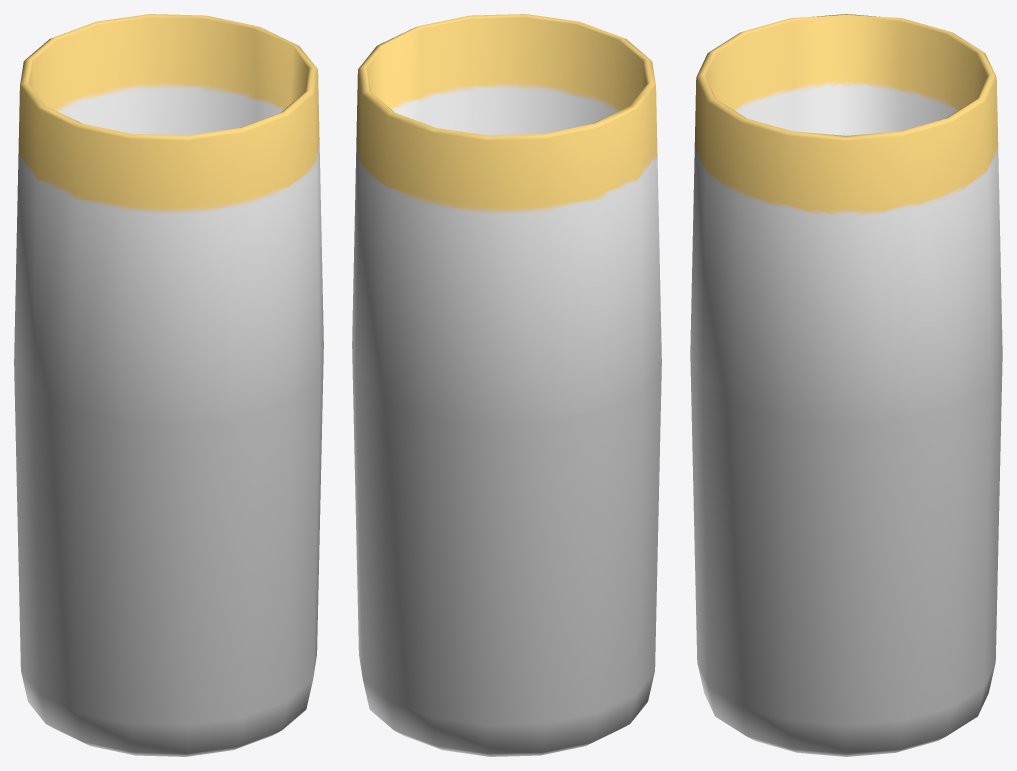
The model's file is TableGlassWare01_3.FBX.
3 renders of one model, left to right at view 1: azimuth 30°, elevation 25°; view 2: azimuth 150°, elevation 25°; view 3: azimuth 270°, elevation 25°, orthographic.
Visible parts, largest first — view 1: TableGlassWare01_3; view 2: TableGlassWare01_3; view 3: TableGlassWare01_3.
Part boxes in pixels (x1=…): TableGlassWare01_3: x1=14, y1=14, x2=323, y2=756; TableGlassWare01_3: x1=352, y1=14, x2=661, y2=756; TableGlassWare01_3: x1=690, y1=14, x2=1002, y2=756.
Size of what is drawn, in the model's own units: 0.0582 by 0.1291 by 0.0582.
